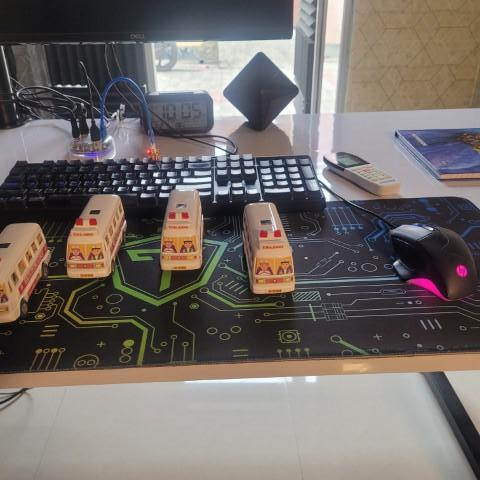ambulance: (62, 188, 132, 284), (239, 199, 301, 298), (160, 187, 204, 273)
